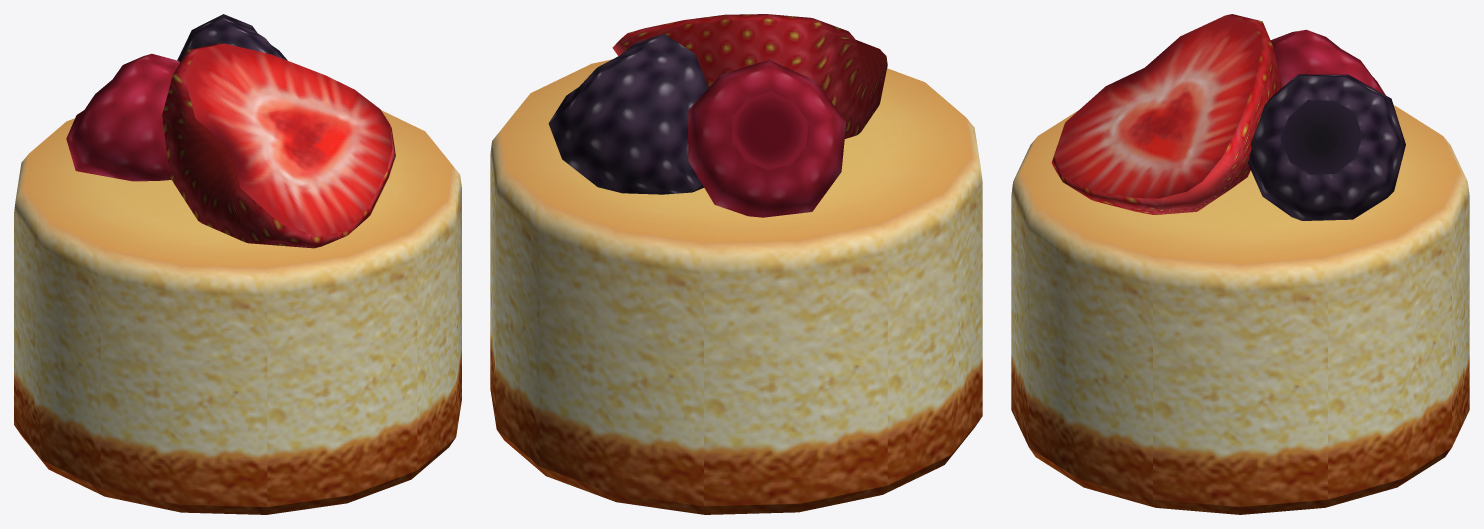
Rendered from 008-Cheesecake_02.FBX.
3 views of the same model, side by side, from view 1: azimuth 30°, elevation 25°; view 2: azimuth 150°, elevation 25°; view 3: azimuth 270°, elevation 25° (orthographic). The views are drawn at different scales.
Parts seen in each view (by area): view 1: 008-Cheesecake_02; view 2: 008-Cheesecake_02; view 3: 008-Cheesecake_02.
Part boxes in pixels (box(x1,y1,x2,y2)): 008-Cheesecake_02: box(14, 14, 461, 514); 008-Cheesecake_02: box(490, 14, 982, 514); 008-Cheesecake_02: box(1011, 14, 1469, 514).
Bounding box in the file's own units: 12.72 × 11.71 × 12.72.
